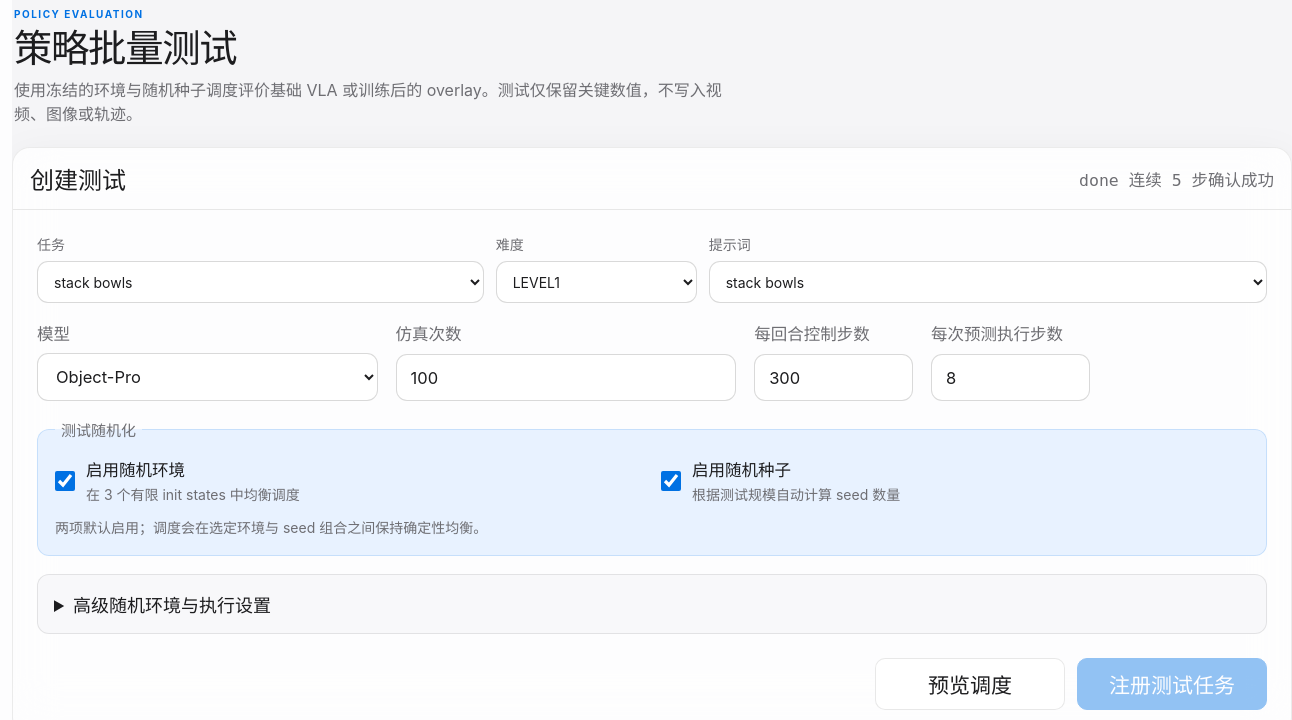
evaluation page › loads per-variant execution defaults and preserves manual edits for the same variant
The width and height of the screenshot is (1292, 720).
Select "Pi policy" in the dropdown named "测试模型" at x=207, y=378, box x1=37 y1=354 x2=378 y2=402
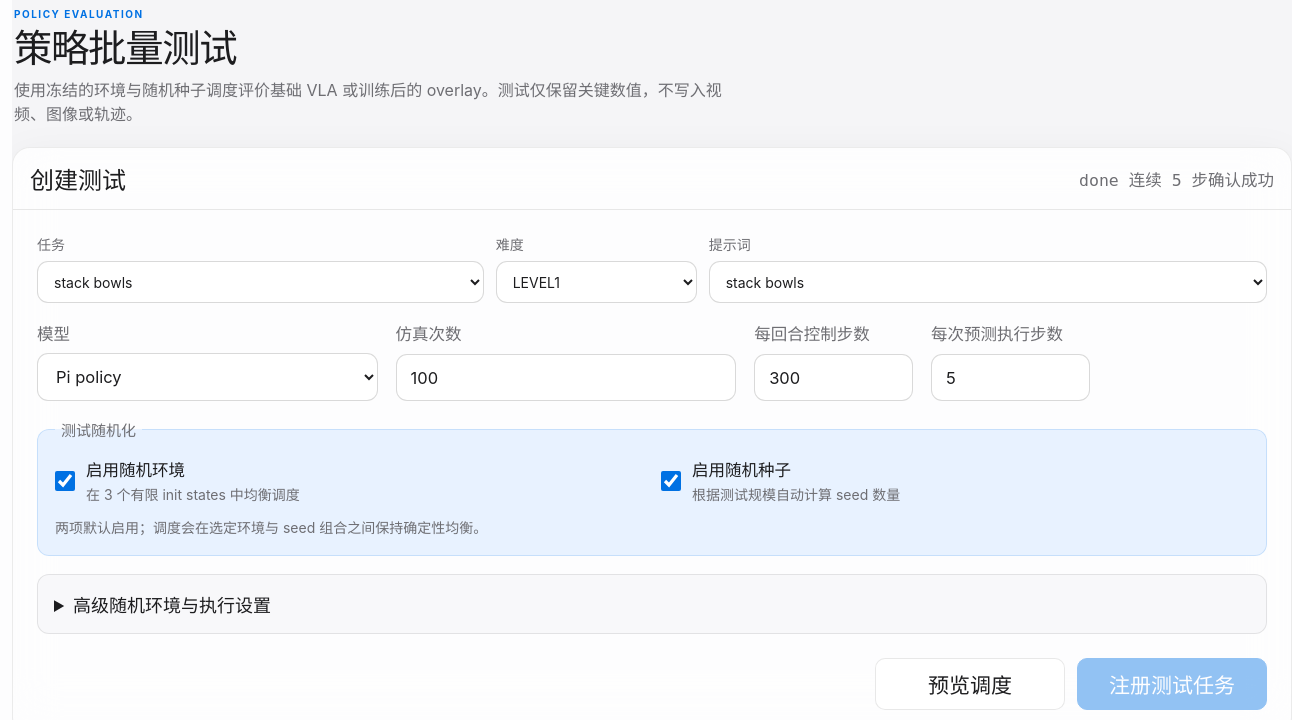
Now the number field named "测试预测执行步数" holds "5"
Replace the text in the number field named "测试预测执行步数" with "10" at x=1011, y=378, box x1=931 y1=354 x2=1090 y2=402
Replace the text in the number field labelled "仿真次数" with "20" at x=566, y=378, box x1=396 y1=354 x2=736 y2=402
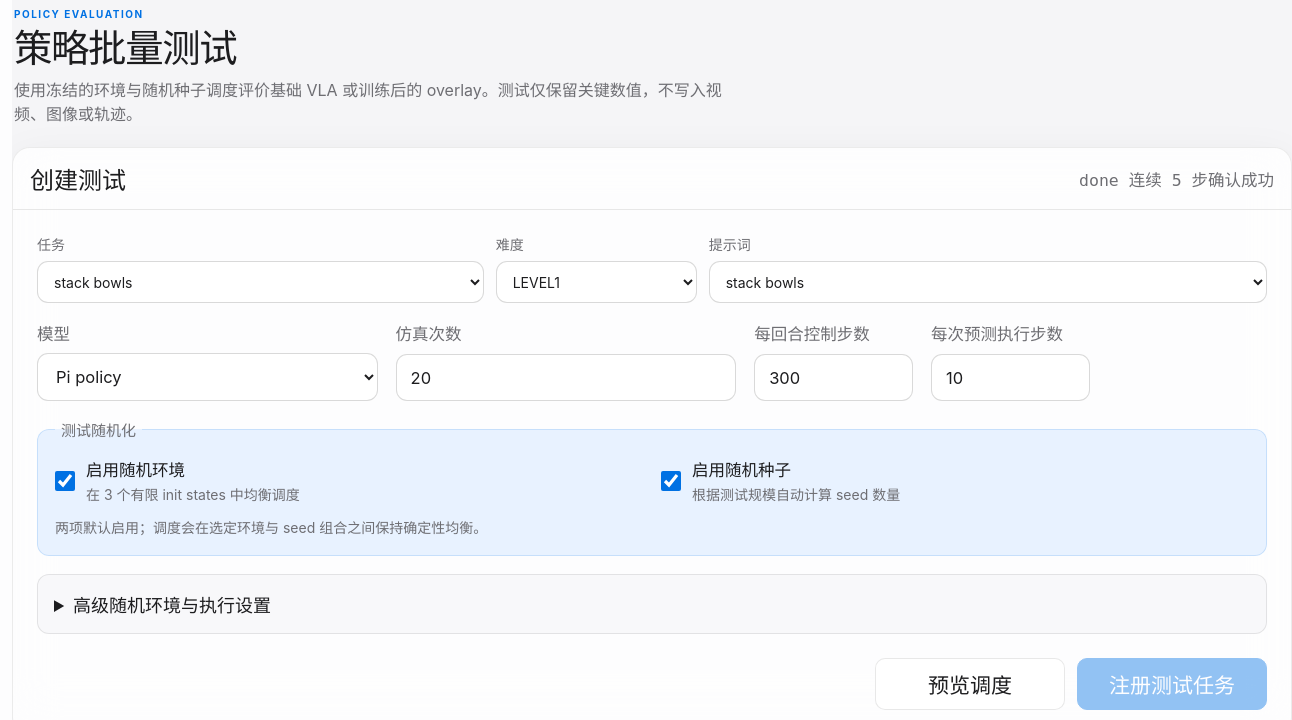
Click the button "预览调度" at x=970, y=684, box x1=875 y1=658 x2=1065 y2=710
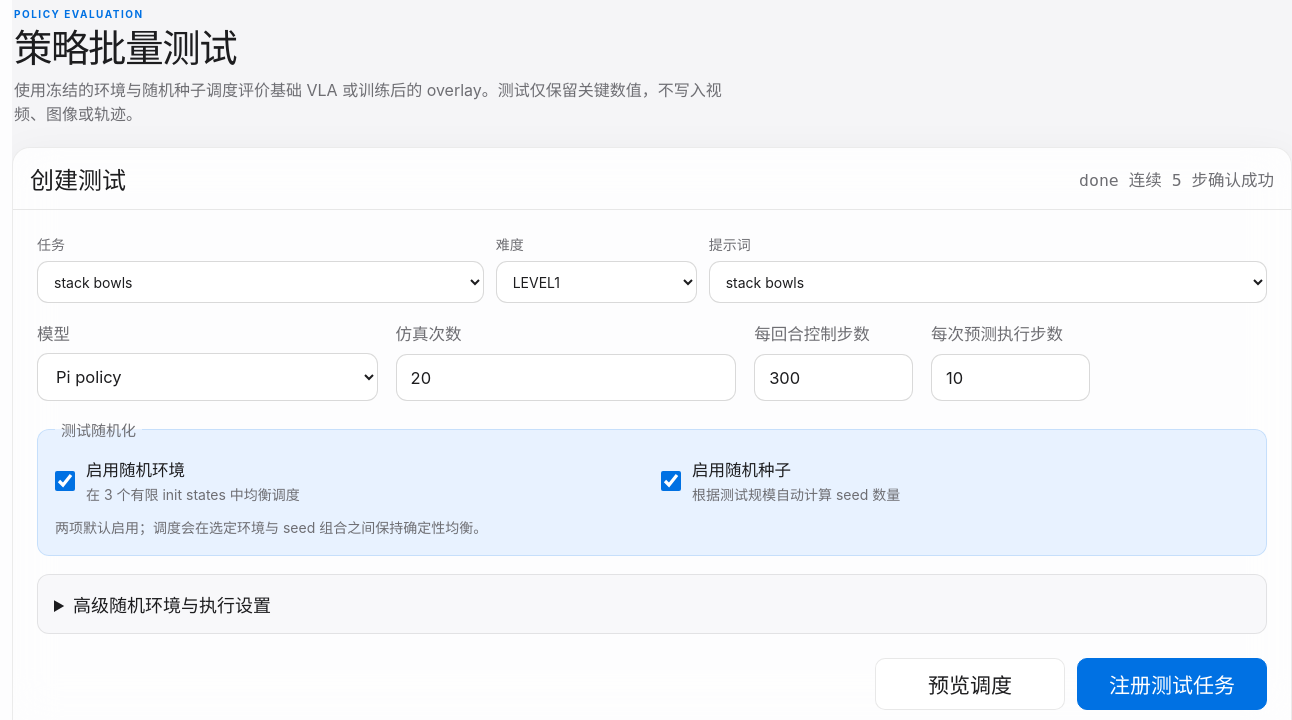
Select "Pi LIBERO-X" in the dropdown named "测试模型" at x=207, y=378, box x1=37 y1=354 x2=378 y2=402
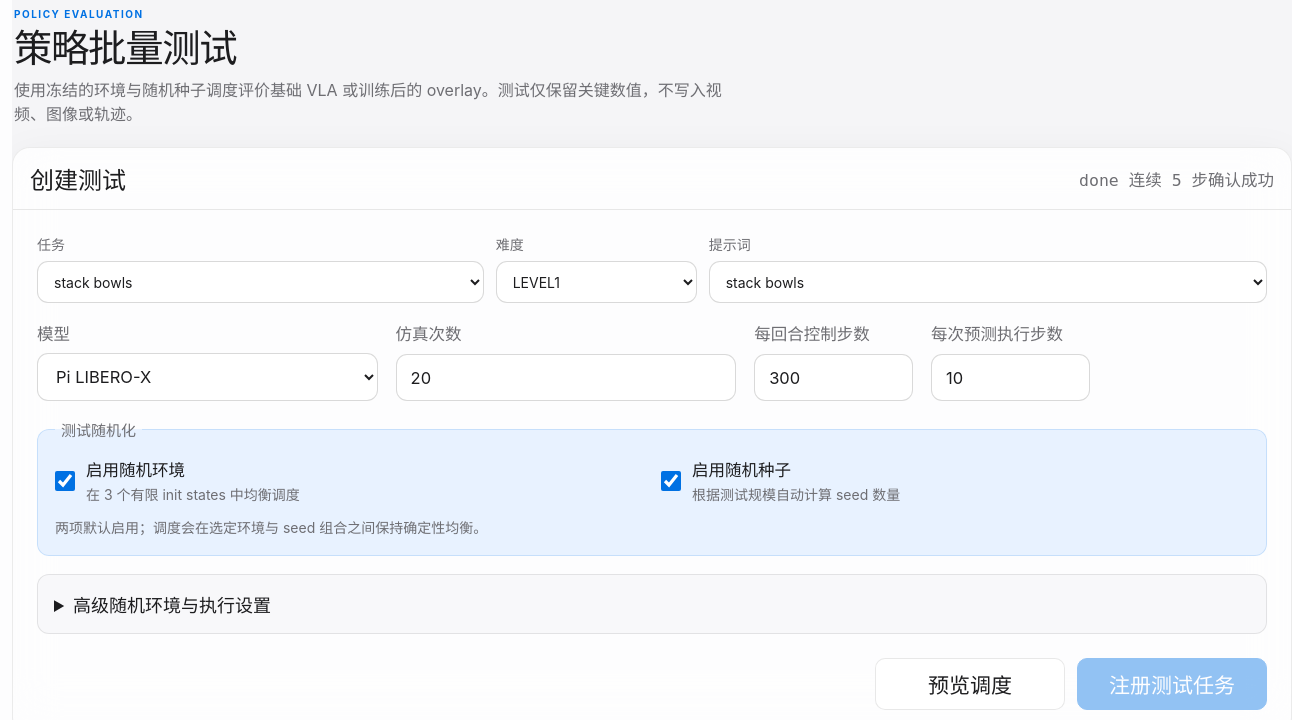
Select "Pi policy" in the dropdown named "测试模型" at x=207, y=378, box x1=37 y1=354 x2=378 y2=402
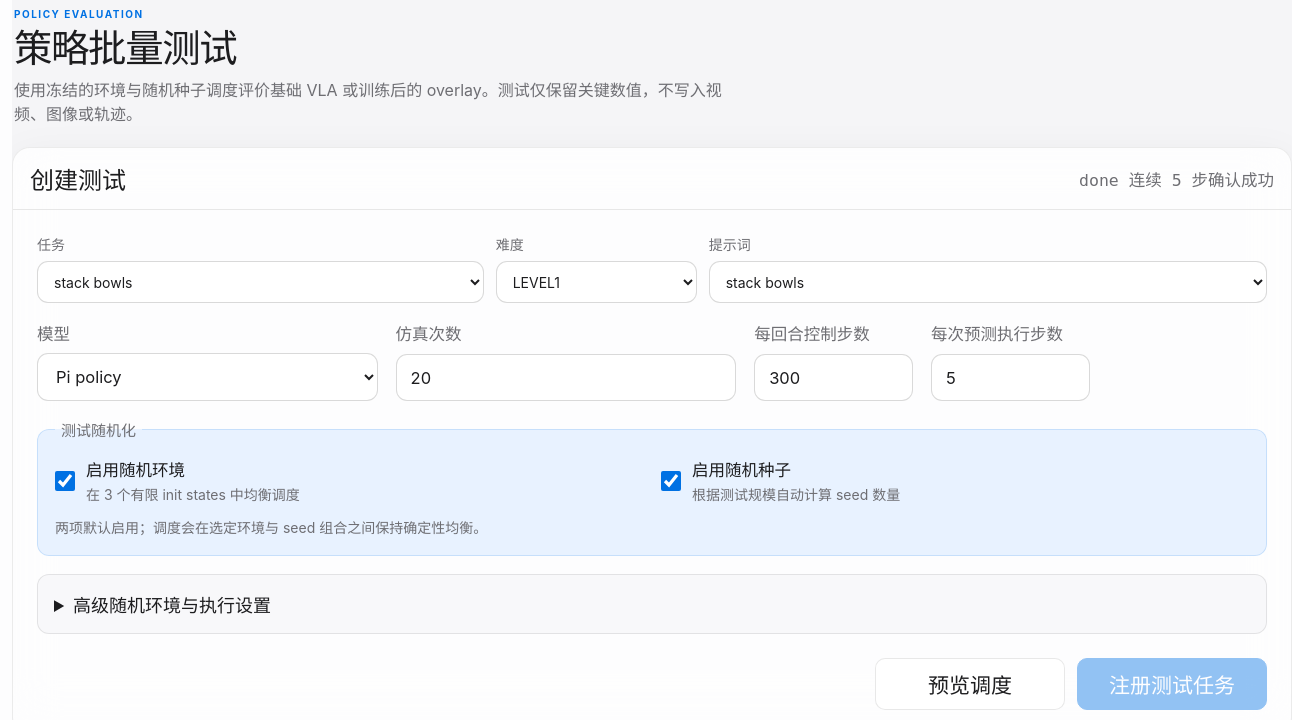
Now the number field named "测试预测执行步数" holds "5", box x1=931 y1=354 x2=1090 y2=402
Select "Object-Pro" in the dropdown named "测试模型" at x=207, y=378, box x1=37 y1=354 x2=378 y2=402
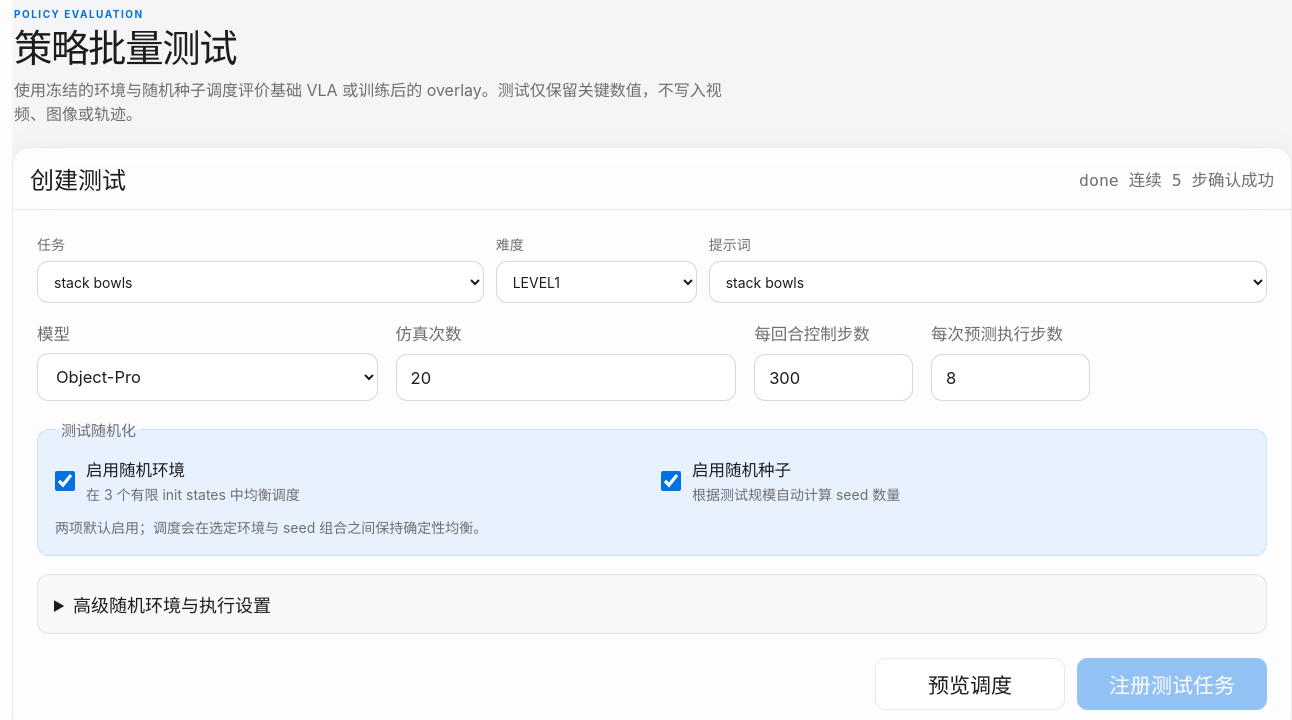
Now the number field named "测试预测执行步数" holds "8", box x1=931 y1=354 x2=1090 y2=402
